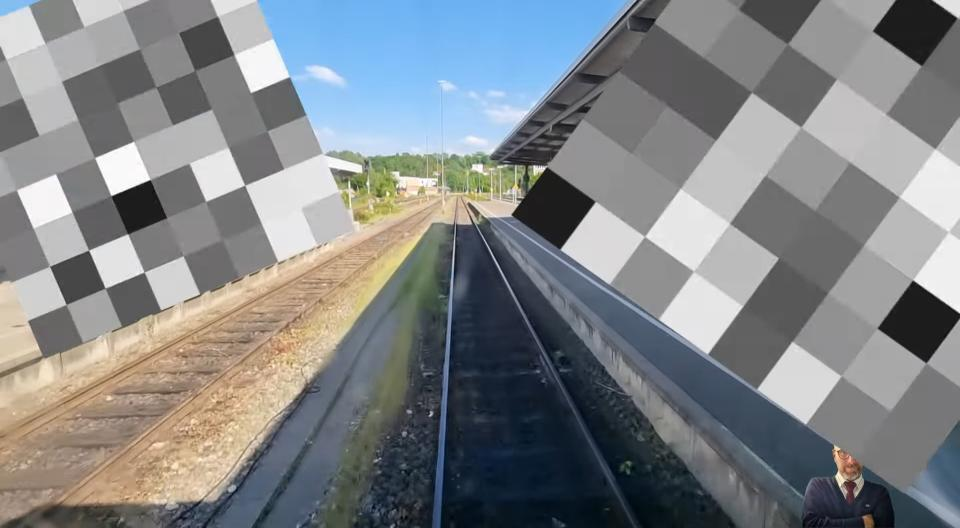Plant: (346, 222, 429, 321)
